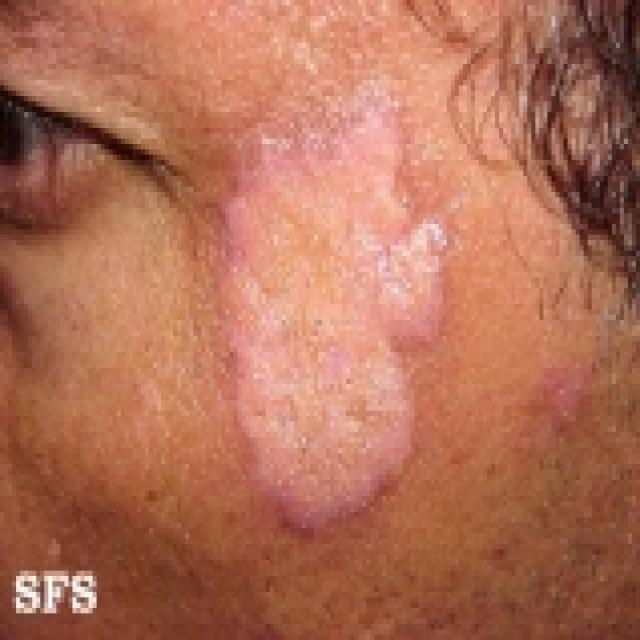lupus: (223, 67, 447, 535)
